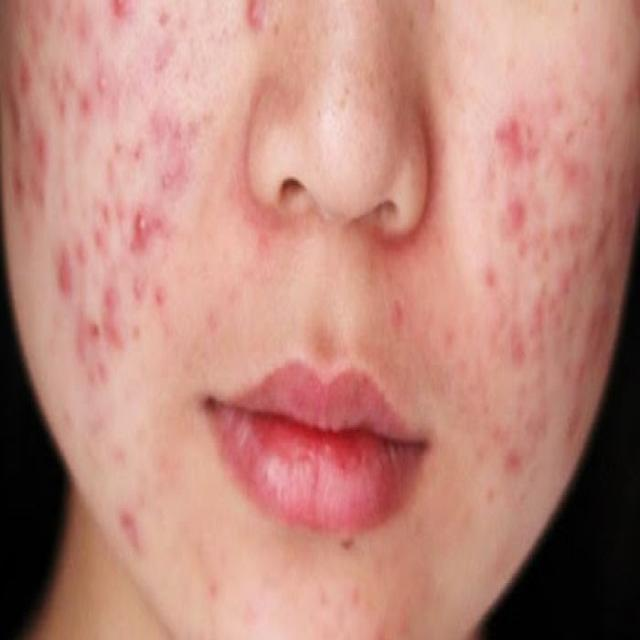Acne: (0, 3, 271, 384), (478, 30, 640, 511), (112, 502, 146, 554), (387, 292, 409, 348)
